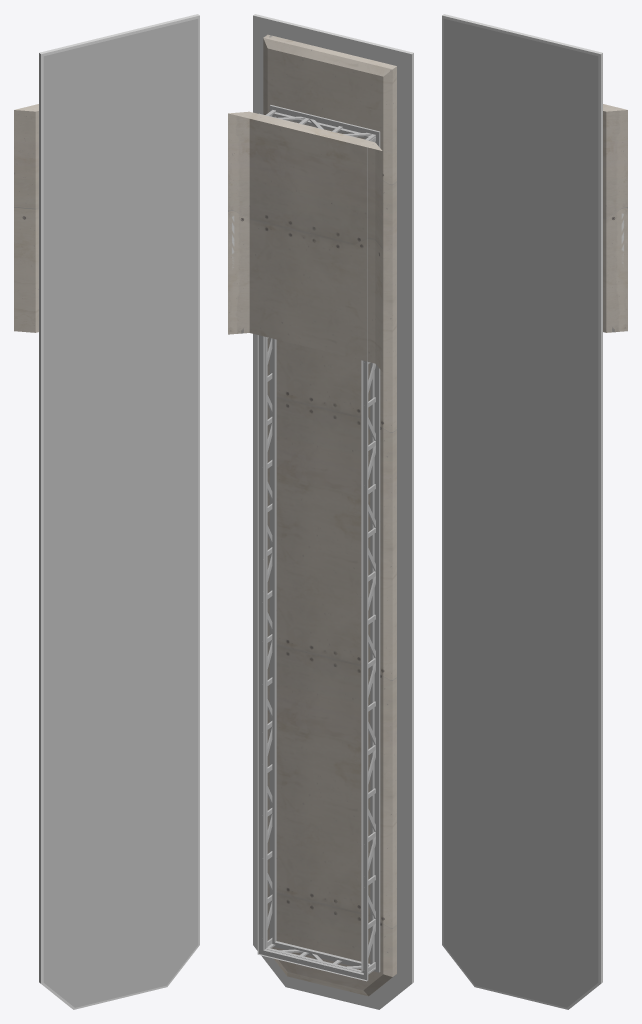
Rendered from KB3D_CBP_Billboard_V.fbx.
3 views of the same model, side by side, from view 1: azimuth 30°, elevation 25°; view 2: azimuth 150°, elevation 25°; view 3: azimuth 330°, elevation 25° (orthographic).
Visible parts, largest first — view 1: KB3D_CBP_Billboard_V_Main; view 2: KB3D_CBP_Billboard_V_Main; view 3: KB3D_CBP_Billboard_V_Main.
Boxes of the visible parts, x1,y1,x2,y2 form: KB3D_CBP_Billboard_V_Main: [14, 14, 199, 1009]; KB3D_CBP_Billboard_V_Main: [228, 14, 413, 1009]; KB3D_CBP_Billboard_V_Main: [442, 14, 627, 1009].
Bounding box in the file's own units: 201 × 1165 × 65.
